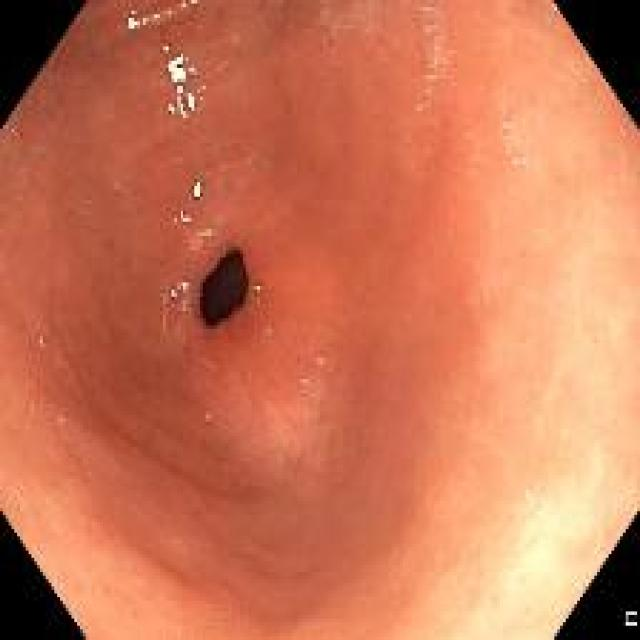bubbles: (419, 2, 448, 91), (142, 6, 177, 26), (497, 116, 514, 139), (320, 27, 335, 46), (194, 83, 209, 102), (178, 0, 192, 19), (522, 489, 535, 503), (251, 282, 264, 295), (415, 100, 428, 113), (509, 153, 521, 167), (177, 299, 188, 313), (197, 227, 210, 238)
contrast: (198, 249, 247, 329)
saturation: (468, 399, 624, 638)
specularity: (165, 53, 189, 81), (167, 100, 186, 119), (186, 90, 196, 112), (192, 180, 201, 199), (125, 17, 138, 30), (177, 209, 189, 223), (174, 84, 182, 100), (168, 286, 176, 300), (180, 280, 188, 293), (162, 42, 170, 52)
